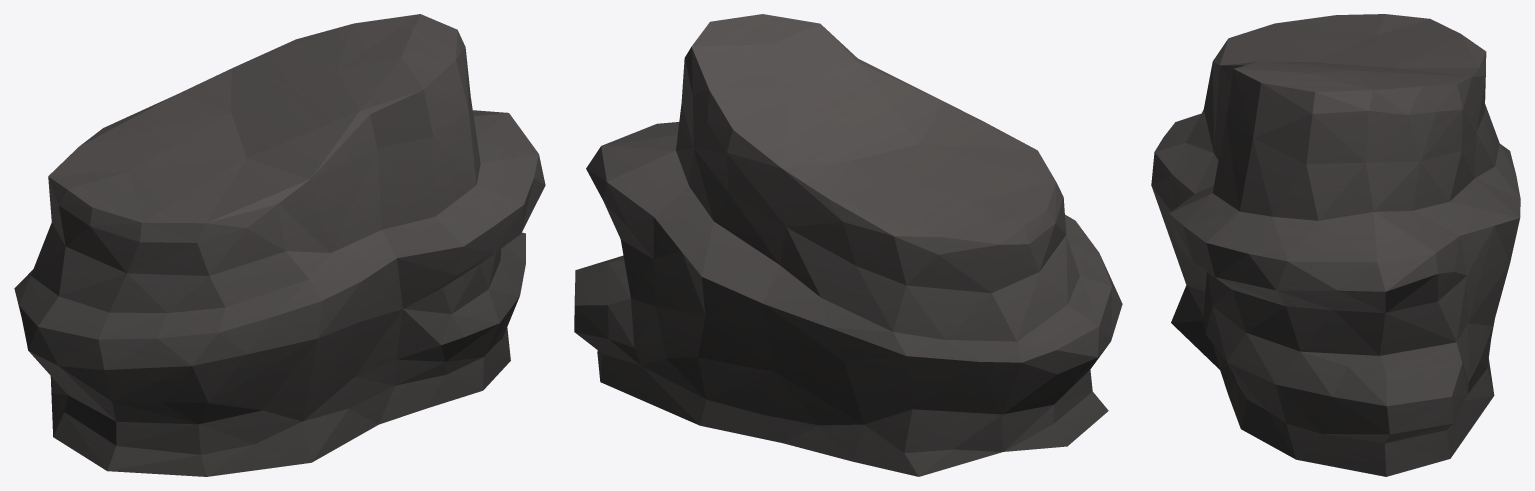
File: ZLP_Rock_D_6.FBX
3 renders of one model, left to right at view 1: azimuth 30°, elevation 25°; view 2: azimuth 150°, elevation 25°; view 3: azimuth 270°, elevation 25°, orthographic. The views are drawn at different scales.
Parts seen in each view (by area): view 1: ZLP_Rock_D_6; view 2: ZLP_Rock_D_6; view 3: ZLP_Rock_D_6.
Part boxes in pixels (x1=…): ZLP_Rock_D_6: x1=14, y1=14, x2=545, y2=476; ZLP_Rock_D_6: x1=574, y1=14, x2=1122, y2=476; ZLP_Rock_D_6: x1=1151, y1=14, x2=1520, y2=476.
Size of the model in its own units: 240 by 149 by 144.
